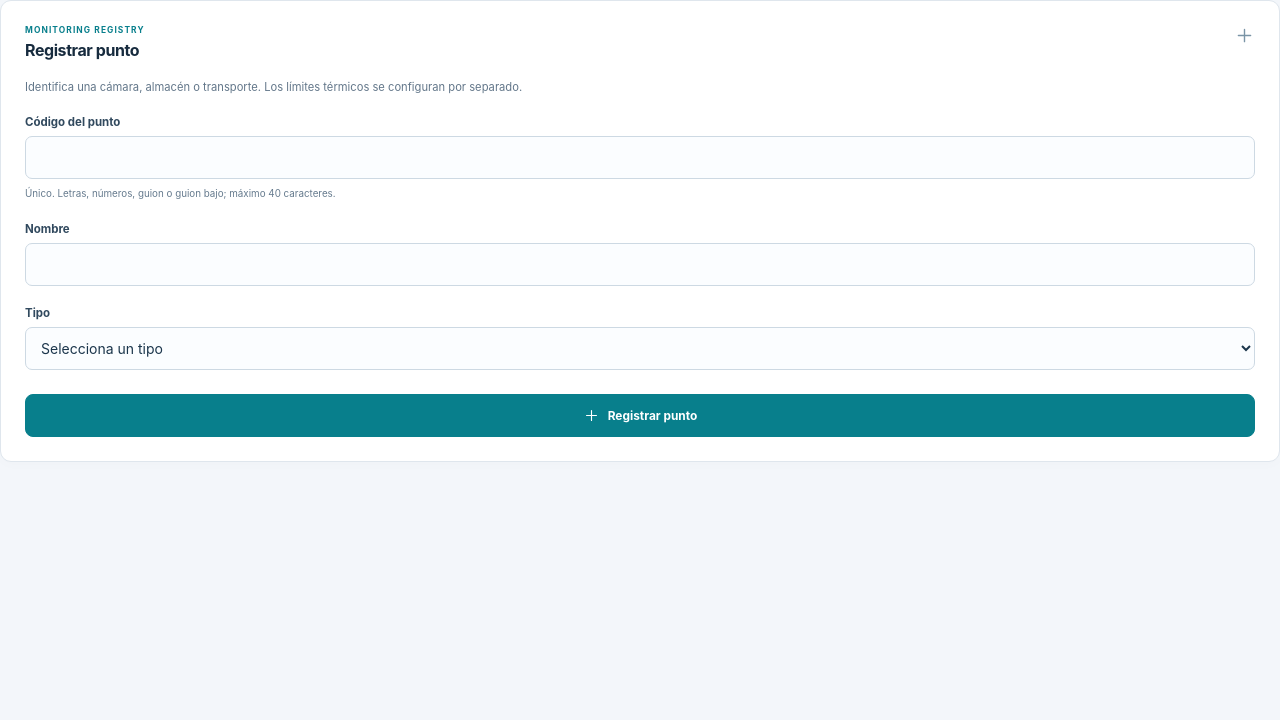
Scenario: registro de puntos › hace visible un conflicto 409 y conserva los valores
Type "cam-01" into the field labelled "Código del punto".
click(640, 158); type("cam-01")  # box [25,136,1255,180]
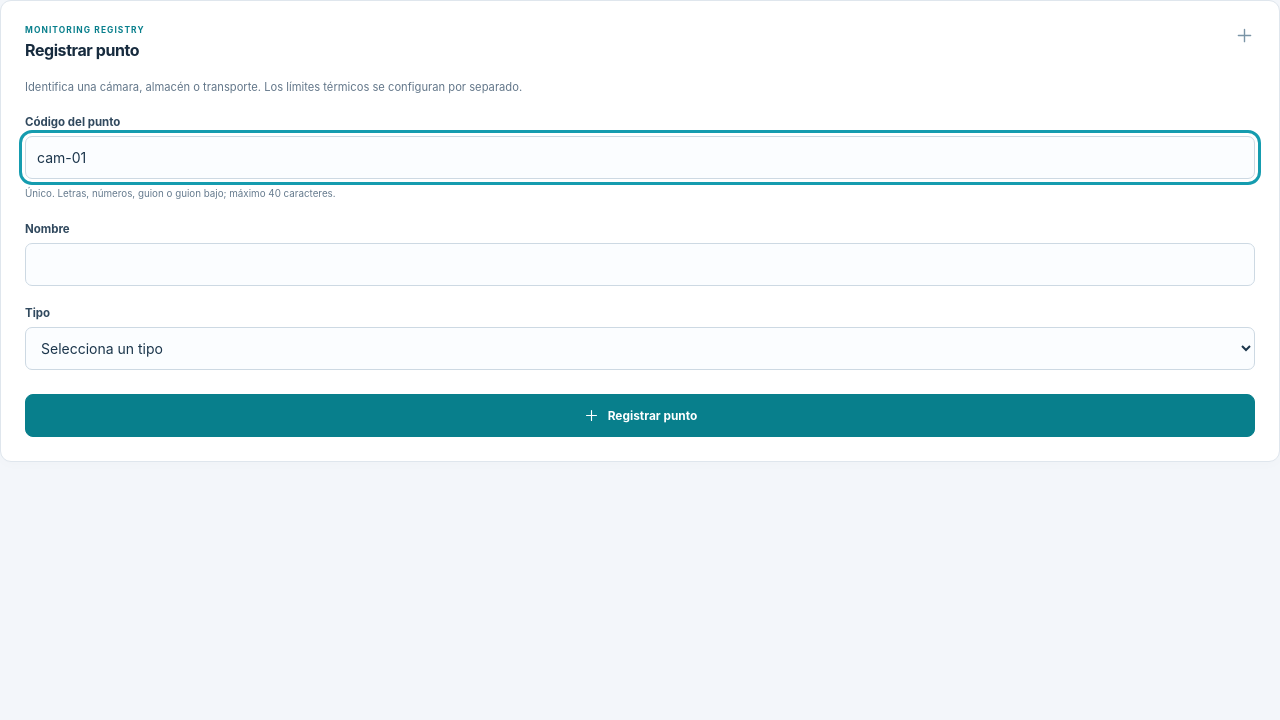
Type "Cámara de pruebas" into the field labelled "Nombre".
click(640, 265); type("Cámara de pruebas")  # box [25,243,1255,286]
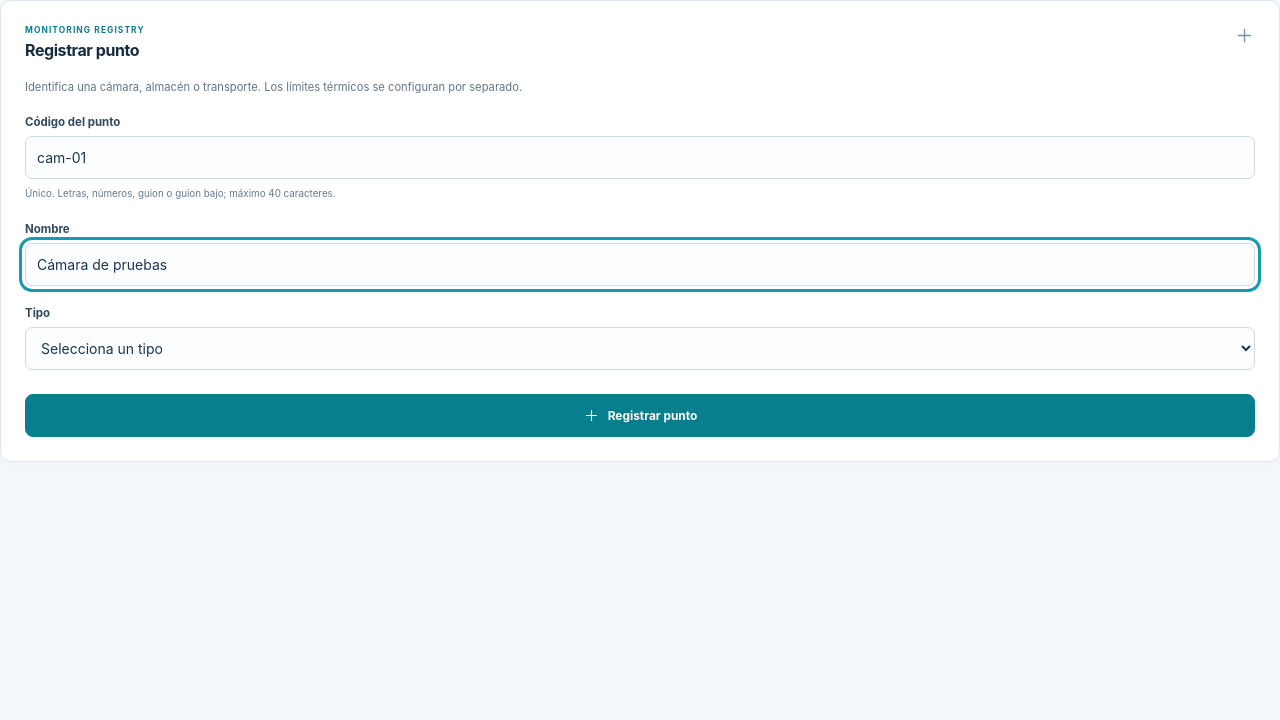
Select "Almacenamiento" in the dropdown labelled "Tipo" at (640, 349), box [25,327,1255,370]
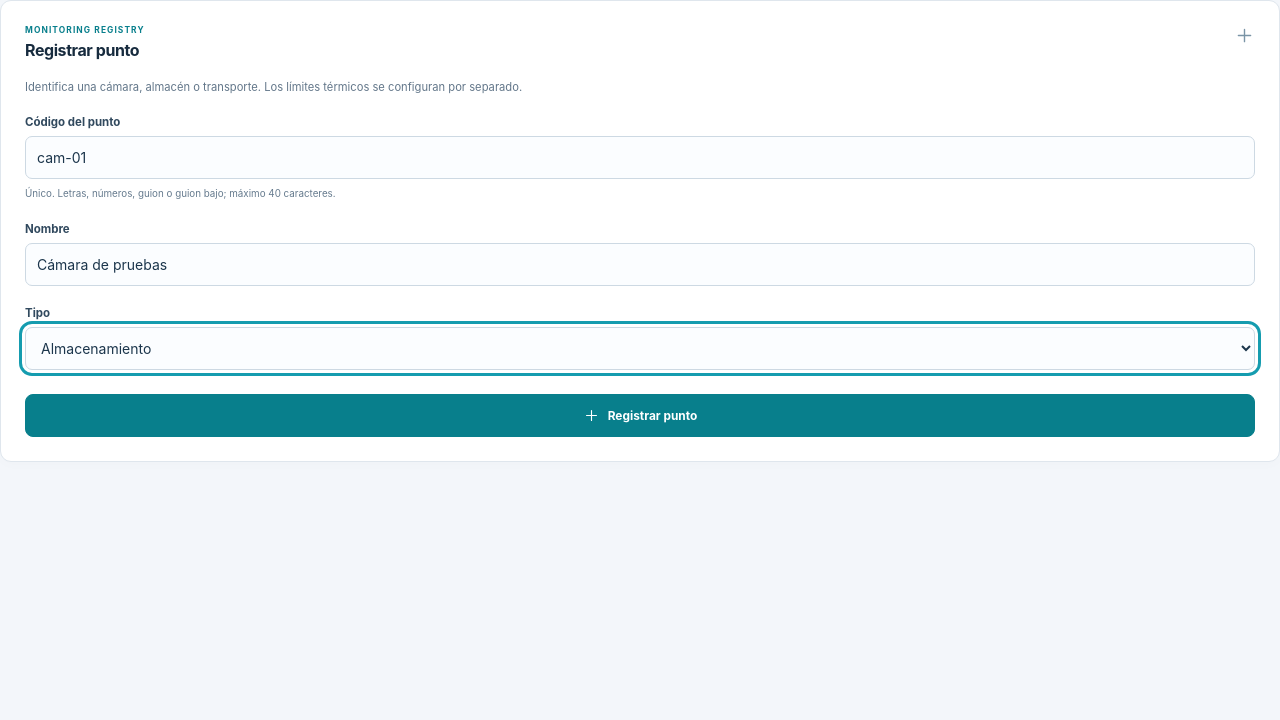
Click the button "Registrar punto".
click(640, 416)  # box [25,394,1255,437]
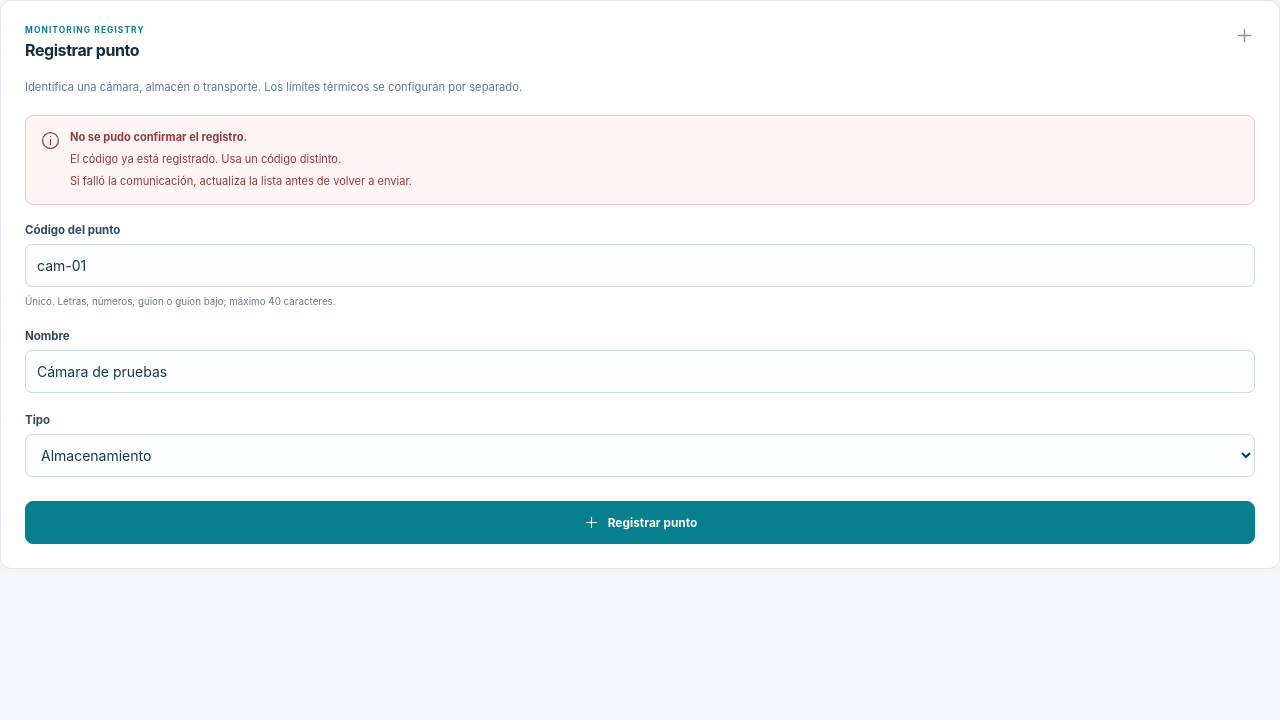
Check: the message shows "El código ya está registrado", box [70,152,341,166]
